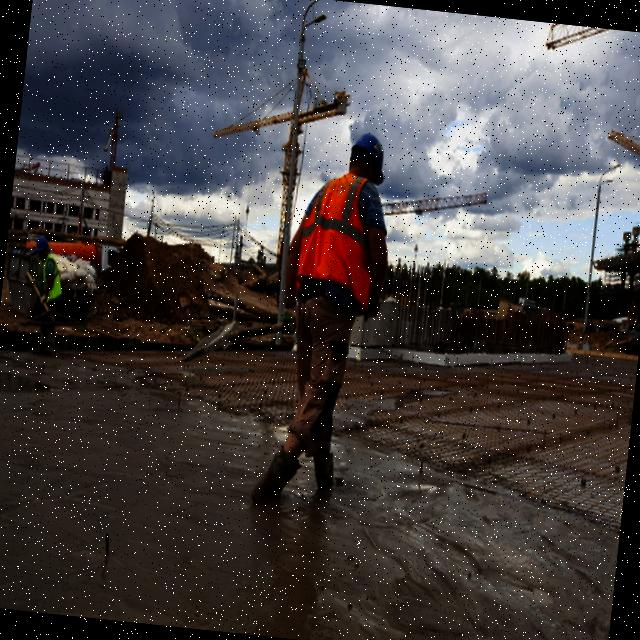Helmet: (348, 133, 390, 185), (35, 236, 52, 258)
Jacket: (296, 169, 381, 323), (37, 254, 65, 303)
